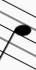HC: (0, 1, 32, 68)
